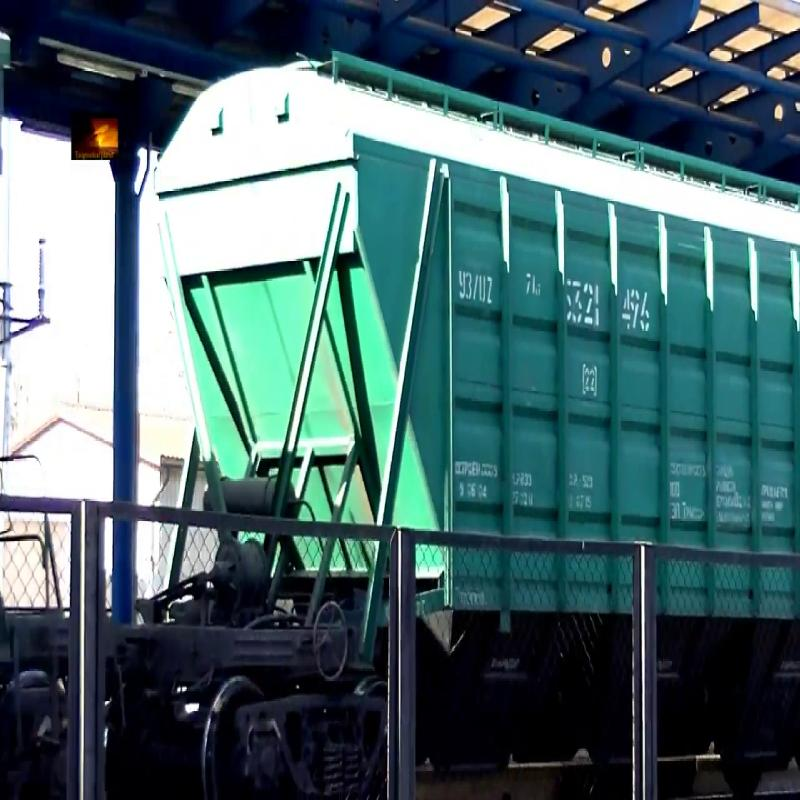train: (166, 10, 800, 776)
